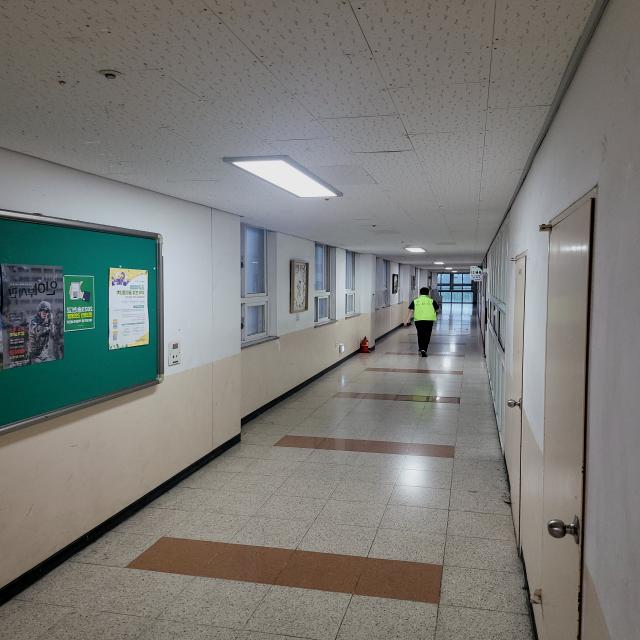weston_spy: (403, 281, 444, 333)
